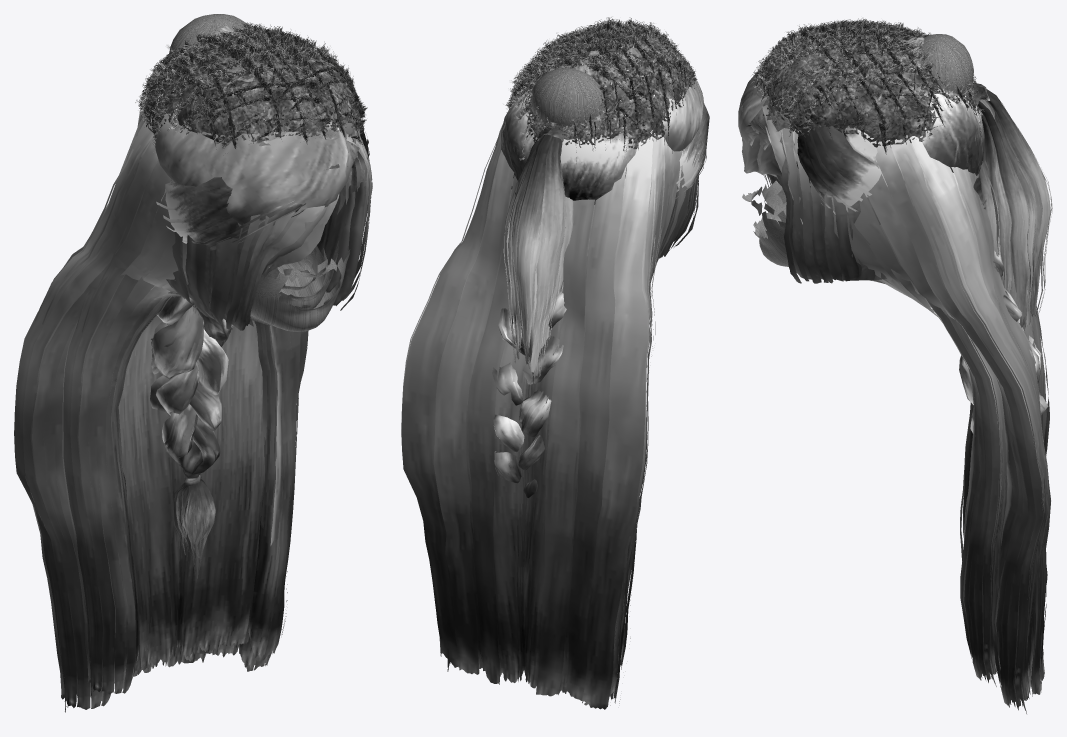
Rendered from mh-hair.glb.
The picture shows the model from 3 angles, left to right: view 1: azimuth 30°, elevation 25°; view 2: azimuth 150°, elevation 25°; view 3: azimuth 270°, elevation 25°; orthographic projection. The views are drawn at different scales.
Parts seen in each view (by area): view 1: Hair_Long@f, Hair_Long@m, Hair_Afro@m, Hair_Pixie@m, Hair_Braid@f, Hair_Bob@m, Hair_Braid@m, Hair_Beard@m, Hair_Bob@f, Hair_Beard@f, Hair_Bun@m, Hair_Short@m (+1 smaller); view 2: Hair_Long@m, Hair_Afro@m, Hair_Braid@m, Hair_Ponytail@m, Hair_Bun@m, Hair_Pixie@m, Hair_Bob@m, Hair_Spiky@m, Hair_Long@f, Hair_Ponytail@f; view 3: Hair_Long@m, Hair_Afro@m, Hair_Long@f, Hair_Ponytail@m, Hair_Braid@m, Hair_Bob@m, Hair_Bun@m, Hair_Beard@m, Hair_Pixie@m, Hair_Ponytail@f, Hair_Spiky@m, Hair_Short@m (+1 smaller).
Part boxes in pixels (x1,y1,x2,y2): Hair_Long@f: [62, 168, 351, 695]; Hair_Long@m: [14, 47, 369, 712]; Hair_Afro@m: [135, 21, 367, 152]; Hair_Pixie@m: [153, 87, 352, 225]; Hair_Braid@f: [152, 296, 233, 582]; Hair_Bob@m: [166, 136, 372, 330]; Hair_Braid@m: [137, 63, 369, 445]; Hair_Beard@m: [249, 246, 350, 331]; Hair_Bob@f: [317, 185, 355, 292]; Hair_Beard@f: [269, 240, 338, 308]; Hair_Bun@m: [168, 14, 249, 59]; Hair_Short@m: [220, 46, 360, 170]; Hair_Long@m: [401, 46, 691, 709]; Hair_Afro@m: [503, 16, 697, 163]; Hair_Braid@m: [492, 90, 709, 497]; Hair_Ponytail@m: [503, 124, 565, 385]; Hair_Bun@m: [530, 68, 604, 125]; Hair_Pixie@m: [653, 74, 704, 153]; Hair_Bob@m: [652, 173, 699, 262]; Hair_Spiky@m: [529, 50, 634, 112]; Hair_Long@f: [618, 206, 675, 669]; Hair_Ponytail@f: [548, 196, 573, 336]; Hair_Long@m: [762, 38, 1050, 713]; Hair_Afro@m: [751, 17, 984, 154]; Hair_Long@f: [879, 224, 1007, 686]; Hair_Ponytail@m: [972, 83, 1052, 330]; Hair_Braid@m: [746, 47, 1048, 441]; Hair_Bob@m: [742, 128, 886, 283]; Hair_Bun@m: [919, 34, 973, 93]; Hair_Beard@m: [742, 180, 843, 281]; Hair_Pixie@m: [738, 72, 766, 145]; Hair_Ponytail@f: [978, 160, 1006, 289]; Hair_Spiky@m: [762, 27, 932, 115]; Hair_Short@m: [741, 30, 858, 136].
Bounding box in the file's own units: 0.3116 × 0.7444 × 0.3234.
12 materials, 12 textured.
